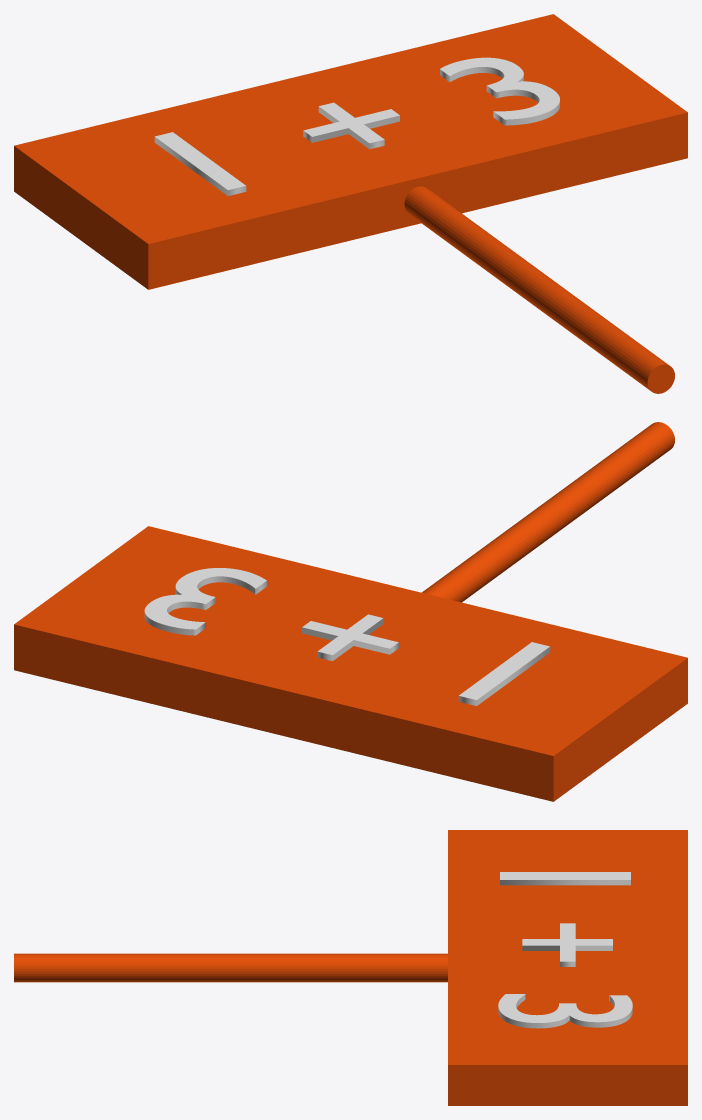
File: табличка.fbx
3 views of the same model, one above another, from view 1: azimuth 30°, elevation 25°; view 2: azimuth 150°, elevation 25°; view 3: azimuth 270°, elevation 25° (orthographic). The views are drawn at different scales.
Visible parts, largest first — view 1: Куб, Цилиндр, Текст; view 2: Куб, Цилиндр, Текст; view 3: Куб, Цилиндр, Текст.
Boxes of the visible parts, x1=… form: Куб: x1=14, y1=14, x2=687, y2=289; Цилиндр: x1=404, y1=186, x2=674, y2=393; Текст: x1=154, y1=57, x2=559, y2=195; Куб: x1=14, y1=526, x2=687, y2=801; Цилиндр: x1=422, y1=422, x2=674, y2=602; Текст: x1=144, y1=568, x2=550, y2=705; Куб: x1=448, y1=830, x2=687, y2=1105; Цилиндр: x1=14, y1=953, x2=447, y2=982; Текст: x1=498, y1=872, x2=632, y2=1028.
Size of the model in its own units: 290 by 26.59 by 351.
